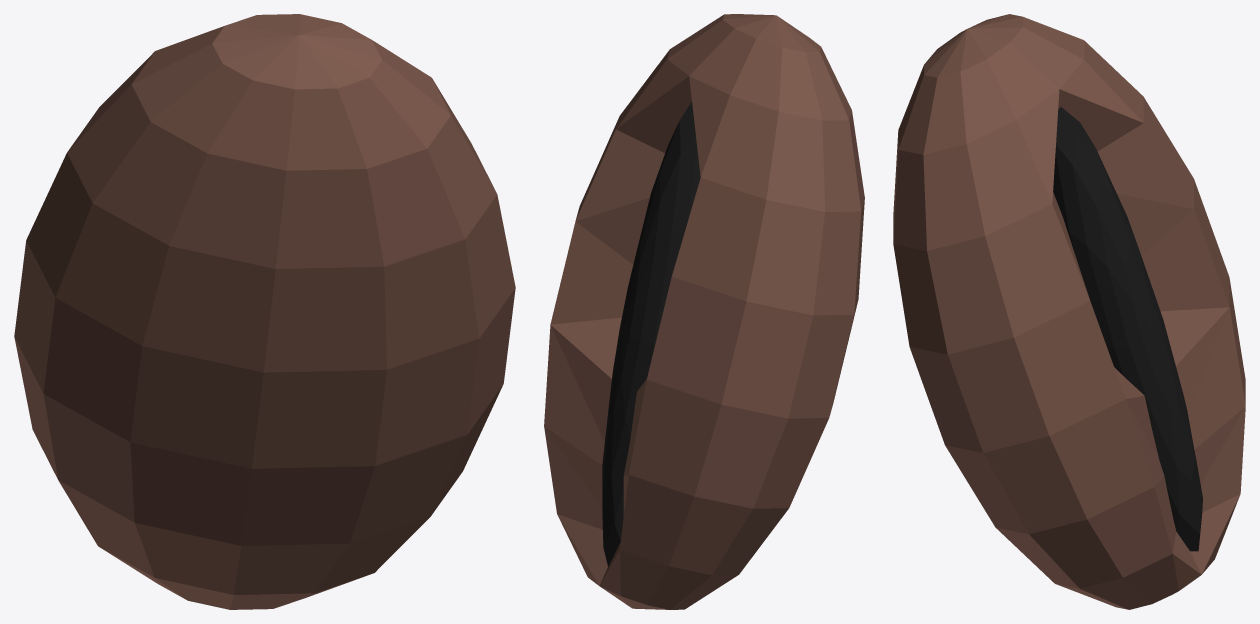
File: model-triangulated.obj
3 renders of one model, left to right at view 1: azimuth 30°, elevation 25°; view 2: azimuth 150°, elevation 25°; view 3: azimuth 270°, elevation 25°, orthographic. The views are drawn at different scales.
Visible parts, largest first — view 1: group325723289; view 2: group325723289, group614167340; view 3: group325723289, group614167340.
Boxes of the visible parts, bbox=[...] form: group325723289: bbox=[14, 14, 515, 609]; group325723289: bbox=[544, 14, 864, 609]; group614167340: bbox=[602, 101, 700, 566]; group325723289: bbox=[893, 14, 1245, 609]; group614167340: bbox=[1053, 107, 1202, 551].
Bounding box in the file's own units: 0.3534 × 0.5621 × 0.3301.
